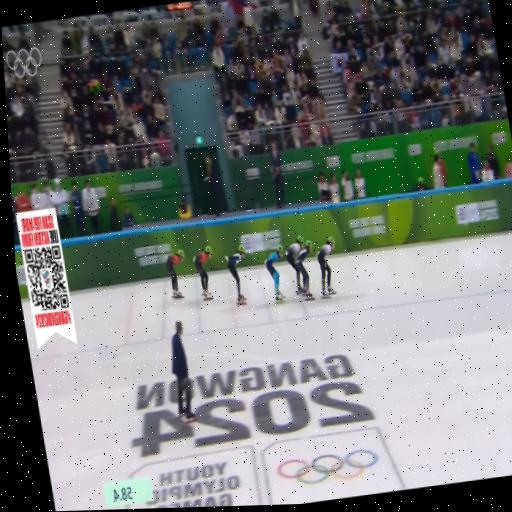Skater: (164, 249, 191, 300), (225, 245, 245, 305), (264, 245, 283, 302), (285, 236, 303, 295), (295, 240, 312, 300), (317, 237, 334, 297), (193, 246, 211, 300)
